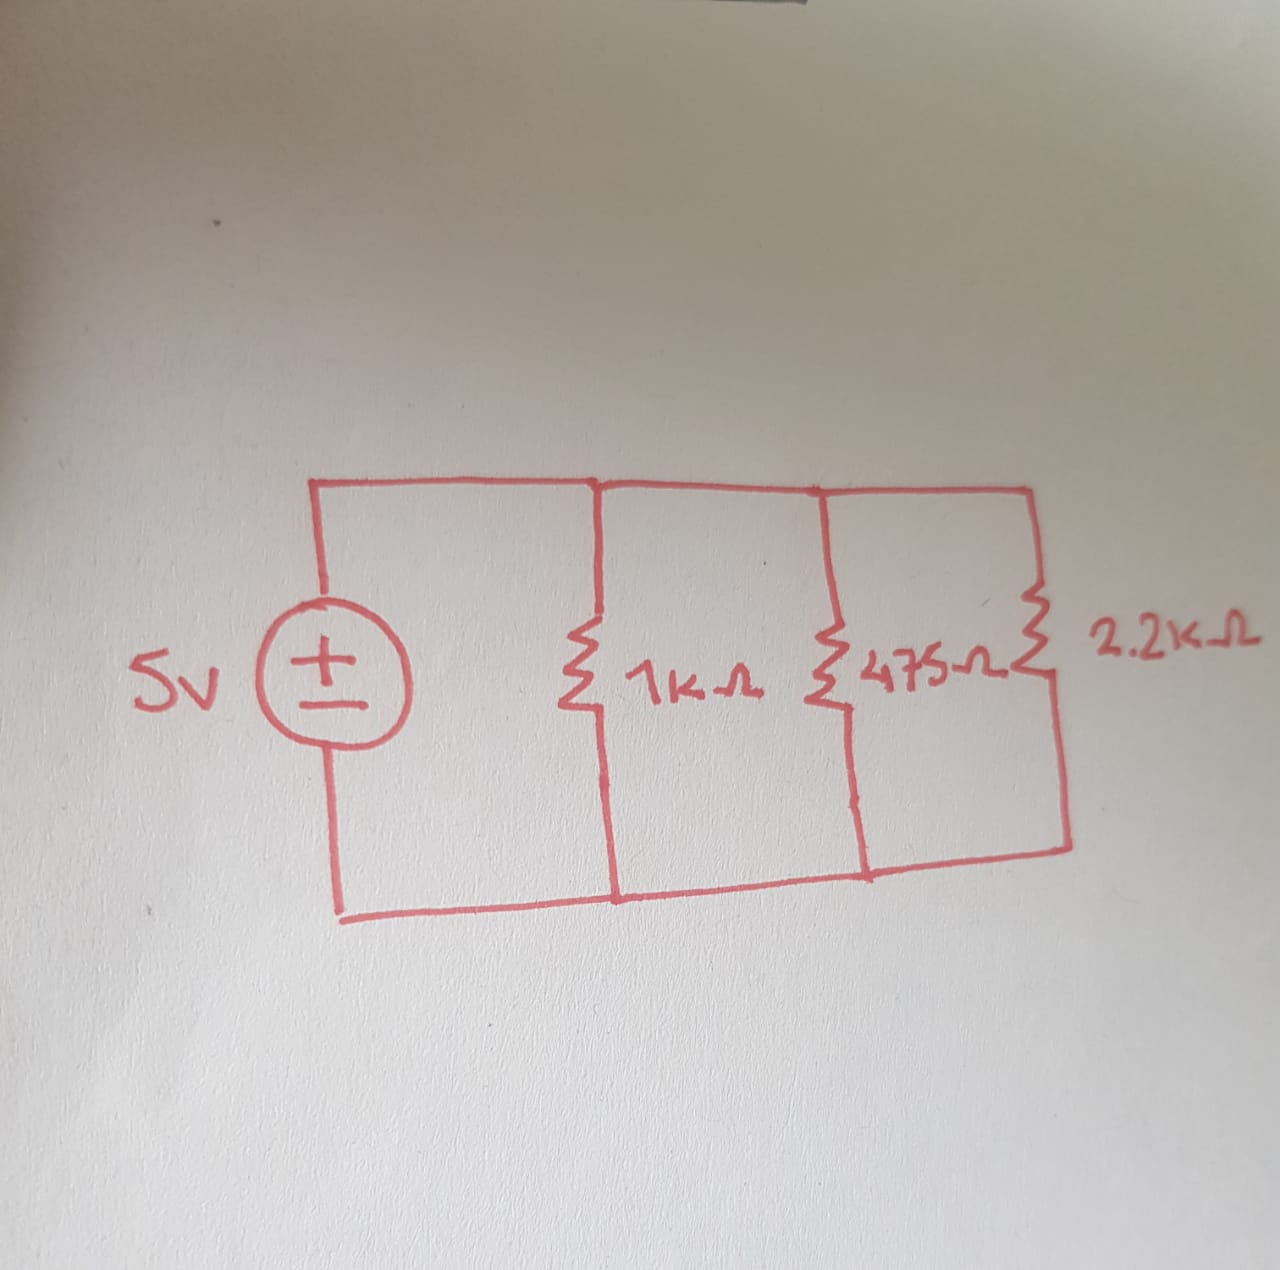junction: (805, 463, 848, 518), (320, 884, 359, 943), (575, 463, 628, 506), (296, 463, 342, 511), (1011, 468, 1057, 515), (595, 868, 638, 915), (1044, 823, 1089, 866), (848, 855, 893, 890)
resistor: (997, 569, 1070, 691), (549, 600, 612, 728), (796, 607, 860, 732)
text: (1084, 595, 1270, 666), (861, 637, 1004, 706), (622, 643, 767, 709), (116, 638, 224, 727)
voltage.dc: (246, 591, 419, 756)
